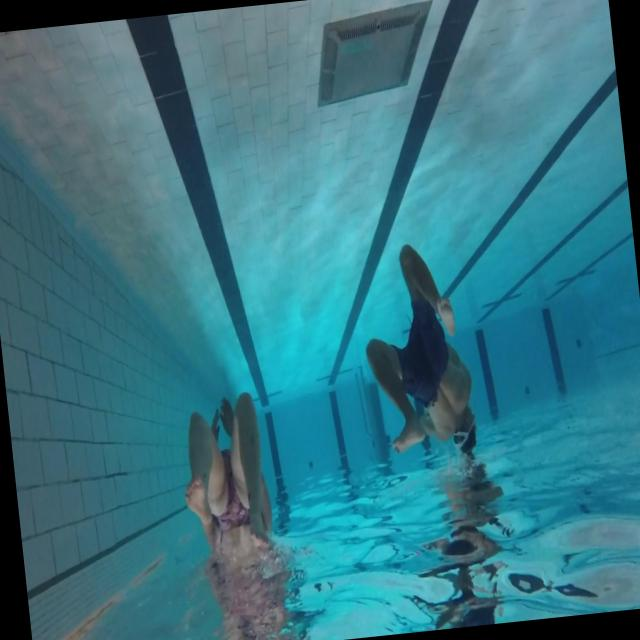human: (174, 389, 303, 640), (354, 238, 480, 465)
